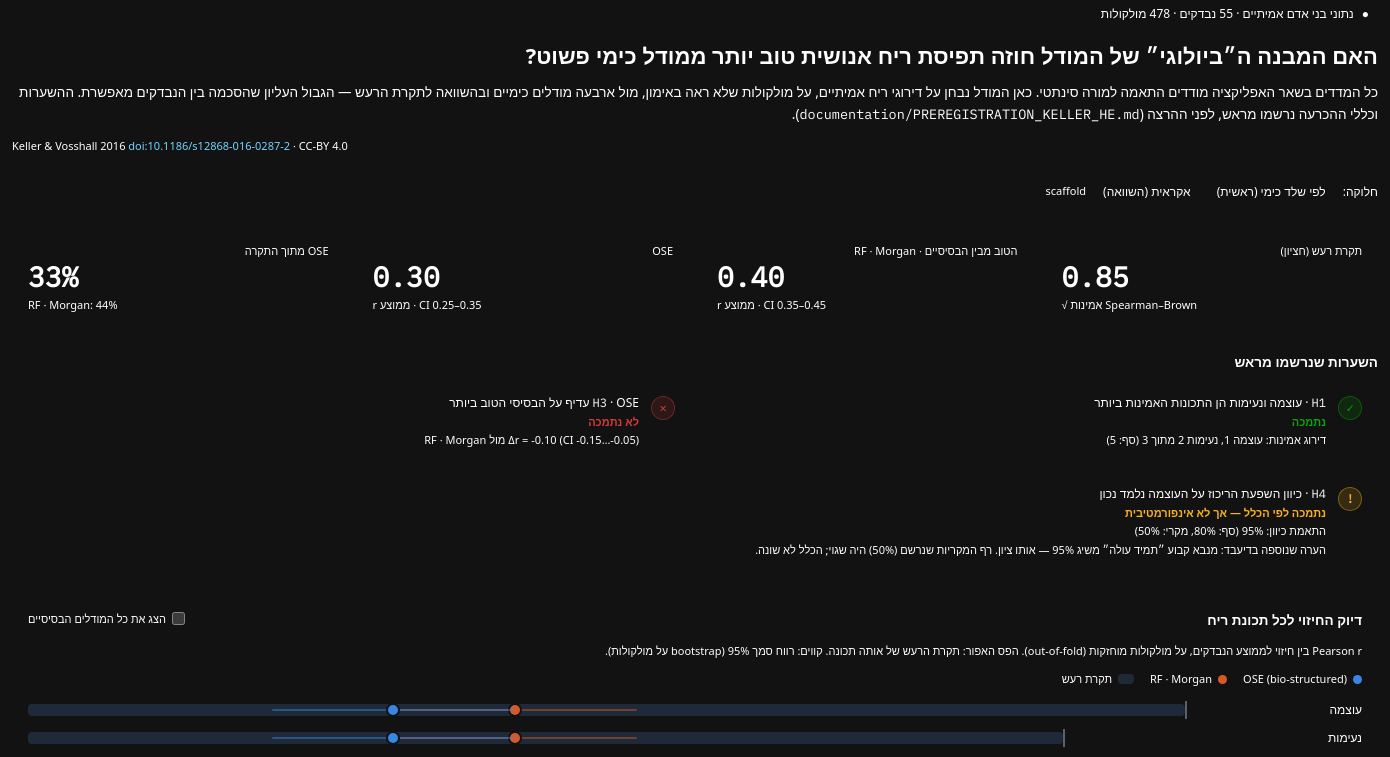
validation report › switching protocol updates the numbers and hides pre-registered verdicts for the secondary split
Click the button with test id "protocol-random".
click(1147, 192)  # box x1=1094 y1=179 x2=1200 y2=205
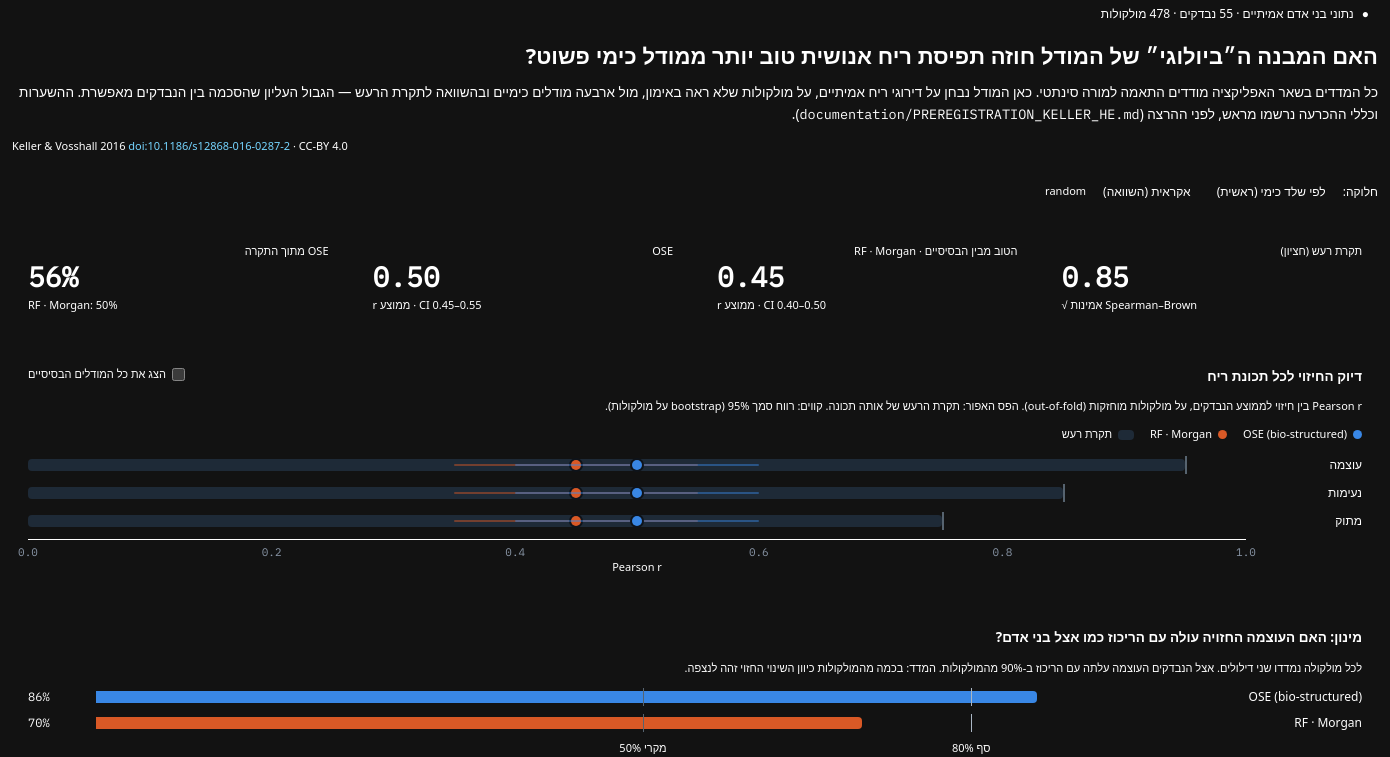
expect the element with test id "stat-ose" shows "0.50": met, box x1=372 y1=258 x2=440 y2=295
expect the element with test id "verdict-H3" is gone: met
